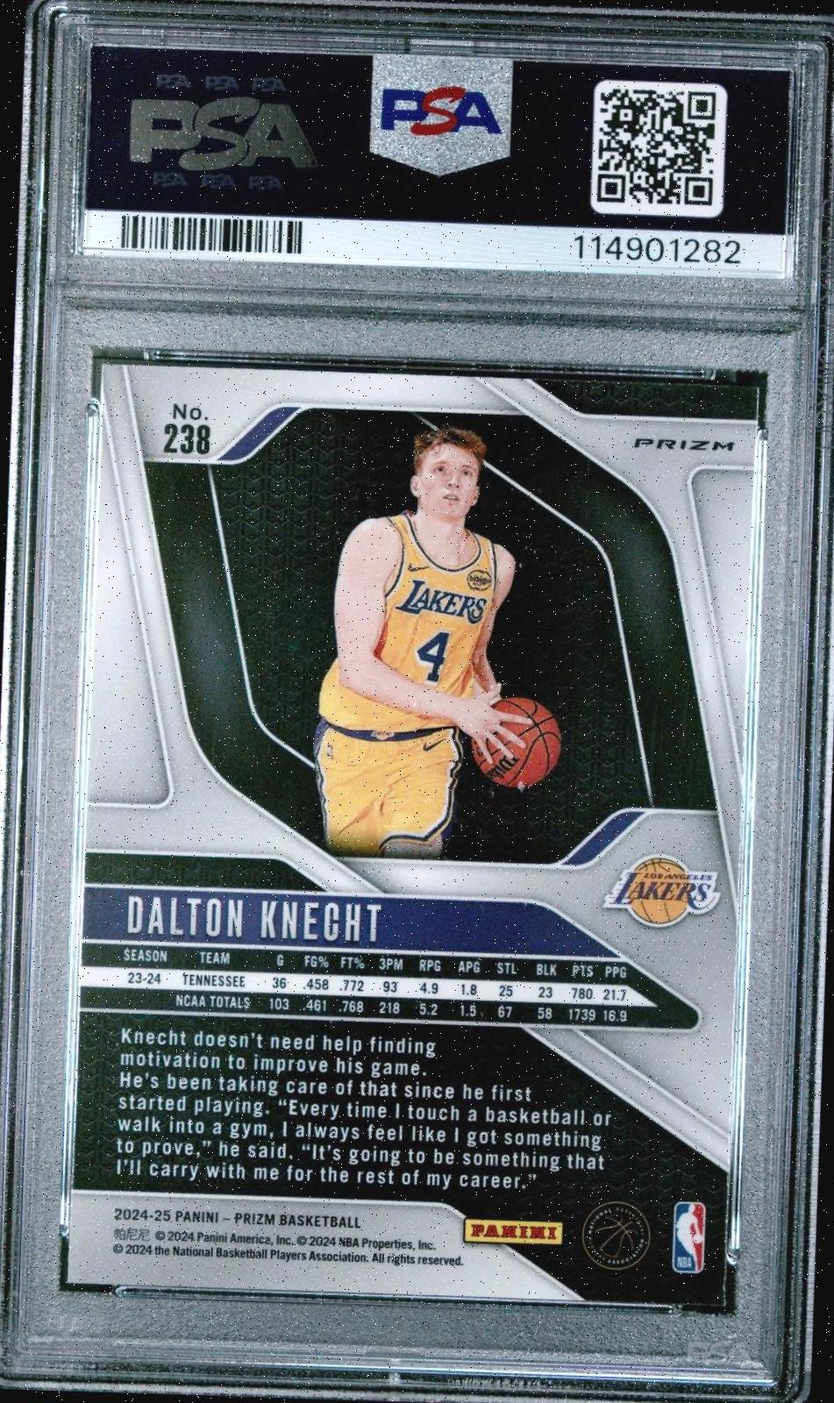card-2UtV: (65, 363, 759, 1306)
